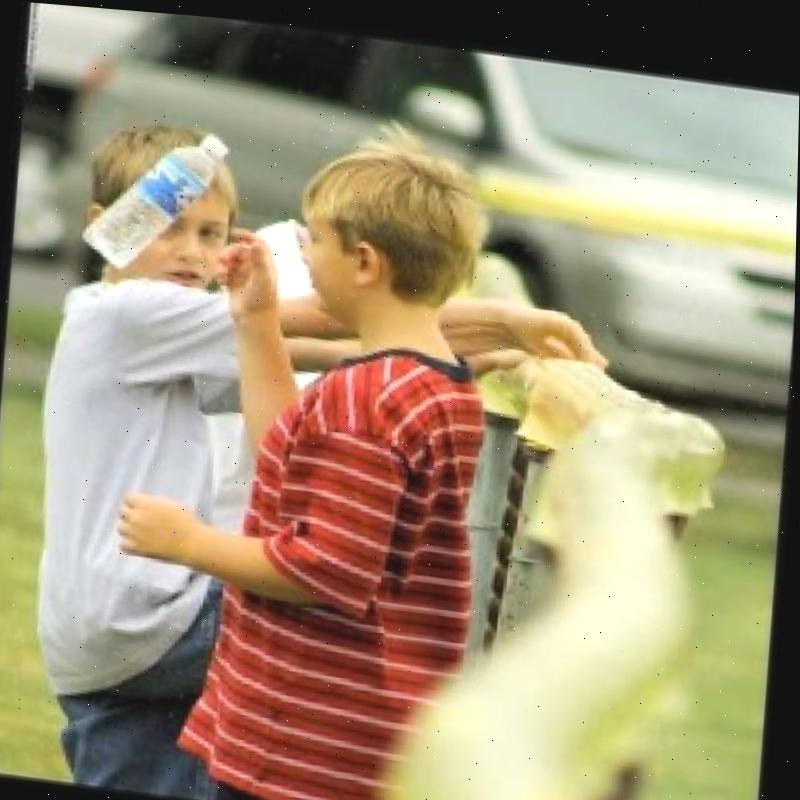botella: (79, 114, 234, 279)
